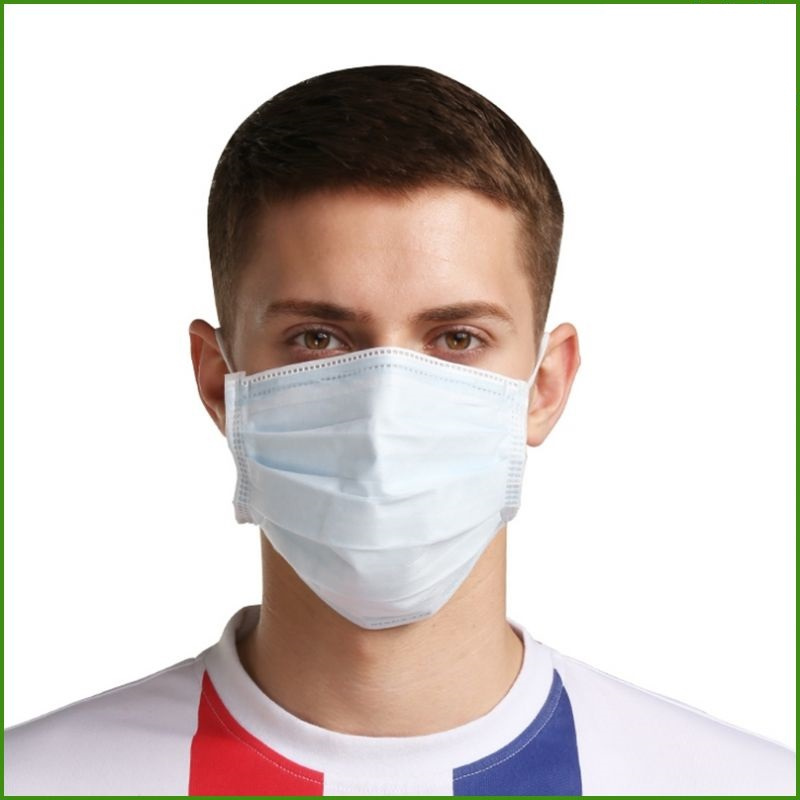face_mask: (222, 181, 533, 622)
